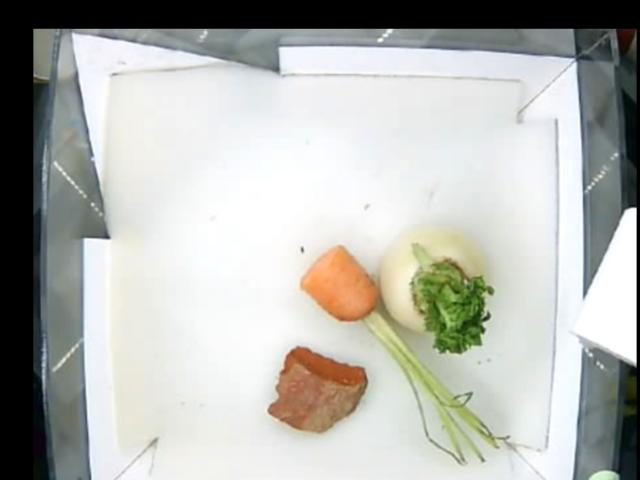Brisk: (267, 339, 365, 436)
Carrot: (298, 243, 388, 337)
Mooli: (382, 222, 487, 354)
